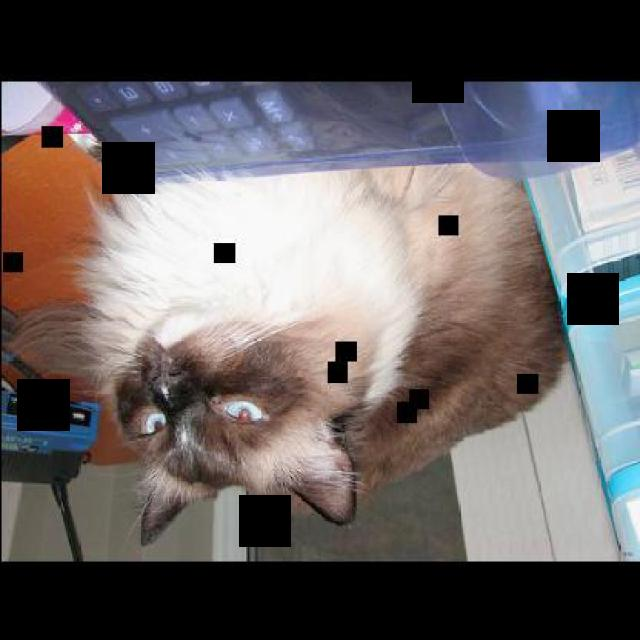unauthorized: (1, 136, 568, 546)
